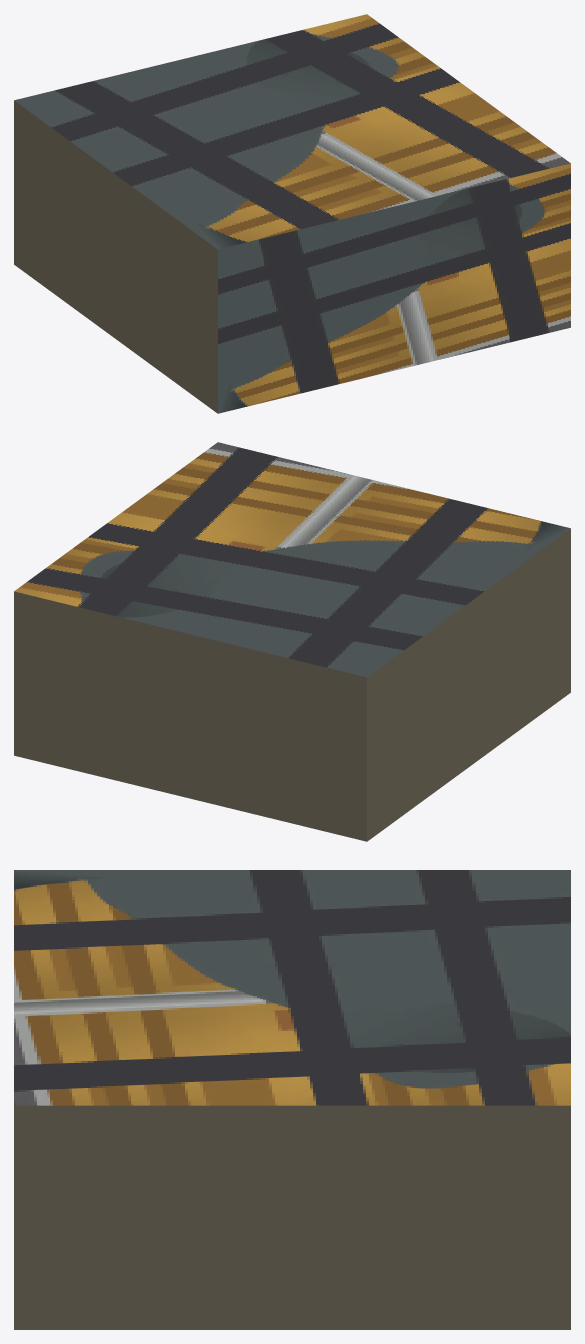
File: Building_Pallet_SurvivalMeals.glb
3 renders of one model, top to bottom at view 1: azimuth 30°, elevation 25°; view 2: azimuth 150°, elevation 25°; view 3: azimuth 270°, elevation 25°, orthographic. The views are drawn at different scales.
Visible parts, largest first — view 1: Pallet_SurvivalMeals; view 2: Pallet_SurvivalMeals; view 3: Pallet_SurvivalMeals.
Boxes of the visible parts, x1,y1,x2,y2 form: Pallet_SurvivalMeals: (14, 14, 570, 413); Pallet_SurvivalMeals: (14, 442, 570, 841); Pallet_SurvivalMeals: (14, 870, 570, 1329).
Bounding box in the file's own units: 1.8 × 0.8 × 1.8.
Materials: 1 (1 with a texture image).
